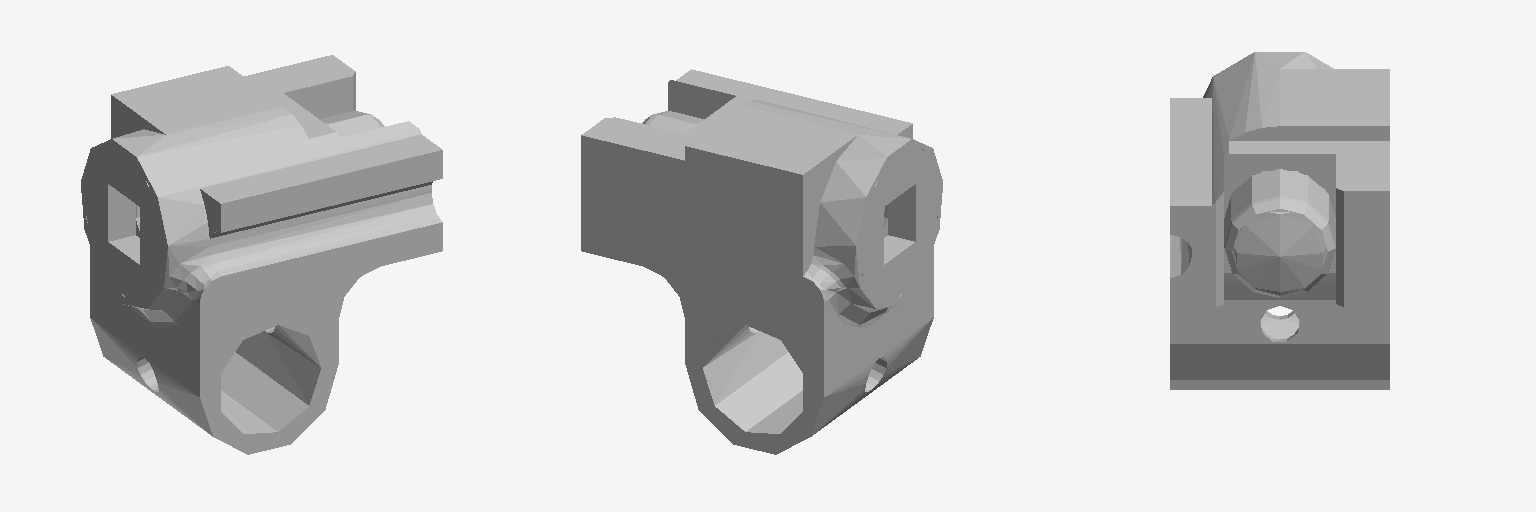
File: 79. Головка заднего хода в сборе.obj
3 views of the same model, side by side, from view 1: azimuth 30°, elevation 25°; view 2: azimuth 150°, elevation 25°; view 3: azimuth 270°, elevation 25° (orthographic).
Parts seen in each view (by area): view 1: Твердое тело2, Твердое тело1:1, Твердое тело1; view 2: Твердое тело2, Твердое тело1:1, Твердое тело1; view 3: Твердое тело2, Твердое тело1.
Boxes of the visible parts, <box> form: Твердое тело2: <box>81,55,442,454</box>; Твердое тело1:1: <box>86,147,163,301</box>; Твердое тело1: <box>319,111,384,137</box>; Твердое тело2: <box>581,69,942,454</box>; Твердое тело1:1: <box>860,147,937,301</box>; Твердое тело1: <box>642,111,704,133</box>; Твердое тело2: <box>1170,52,1389,389</box>; Твердое тело1: <box>1224,169,1335,297</box>.
Bounding box in the file's own units: 38 × 39.51 × 27.5.